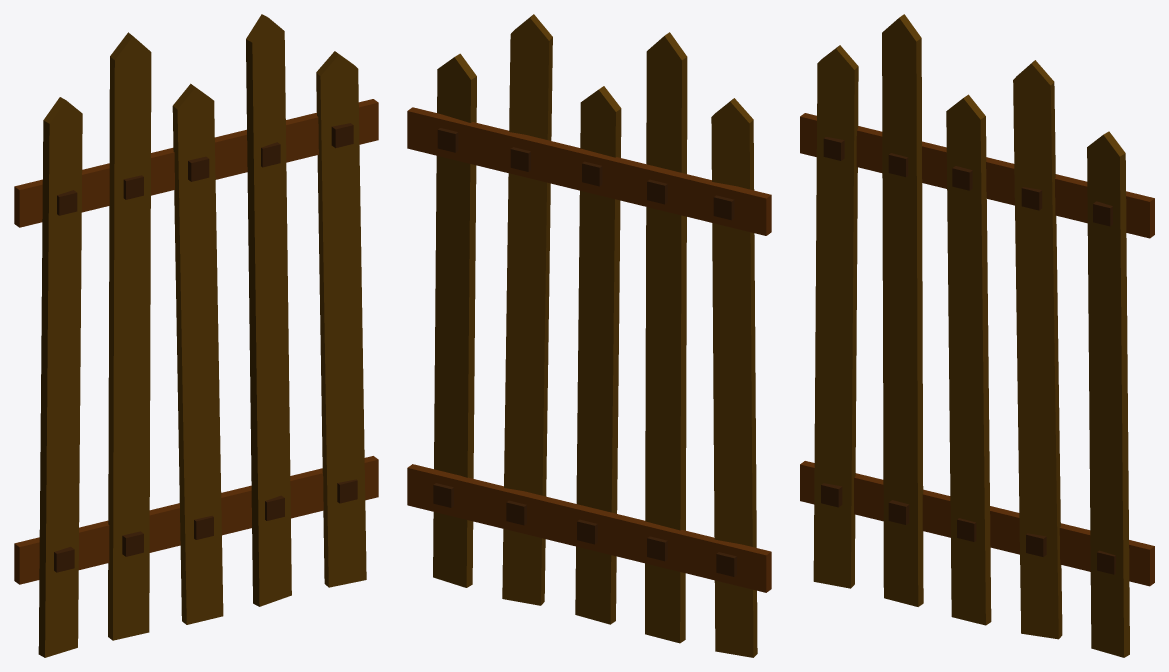
Rendered from wall_wood_2.fbx.
3 renders of one model, left to right at view 1: azimuth 30°, elevation 25°; view 2: azimuth 150°, elevation 25°; view 3: azimuth 330°, elevation 25°, orthographic. The views are drawn at different scales.
Visible parts, largest first — view 1: wall_wood_2; view 2: wall_wood_2; view 3: wall_wood_2.
Boxes of the visible parts, box(x1,y1,x2,y2) form: wall_wood_2: box(14, 14, 378, 657); wall_wood_2: box(407, 14, 771, 657); wall_wood_2: box(800, 14, 1154, 657).
Bounding box in the file's own units: 1 × 1.6 × 0.075.
